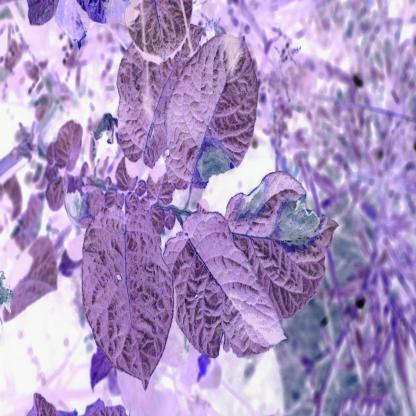Potato leaf early blight: (165, 210, 288, 364), (80, 199, 168, 397), (112, 20, 208, 170)
Potato leaf late blight: (226, 172, 340, 322), (166, 30, 260, 188)
